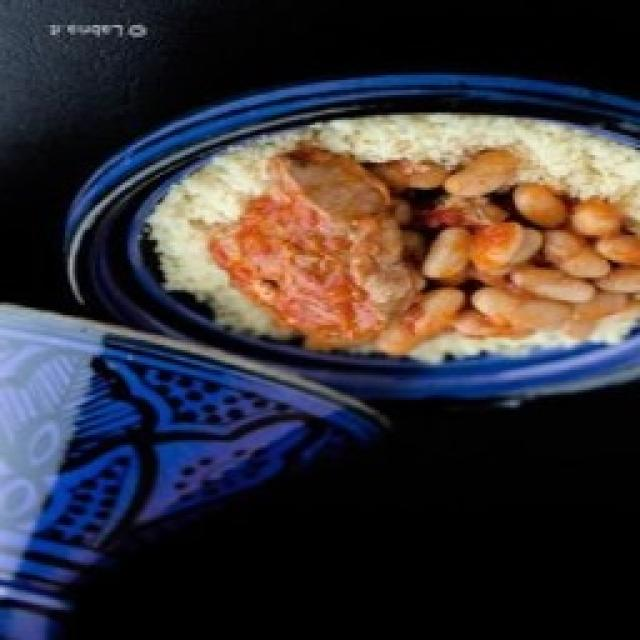Couscous: (146, 116, 640, 361)
